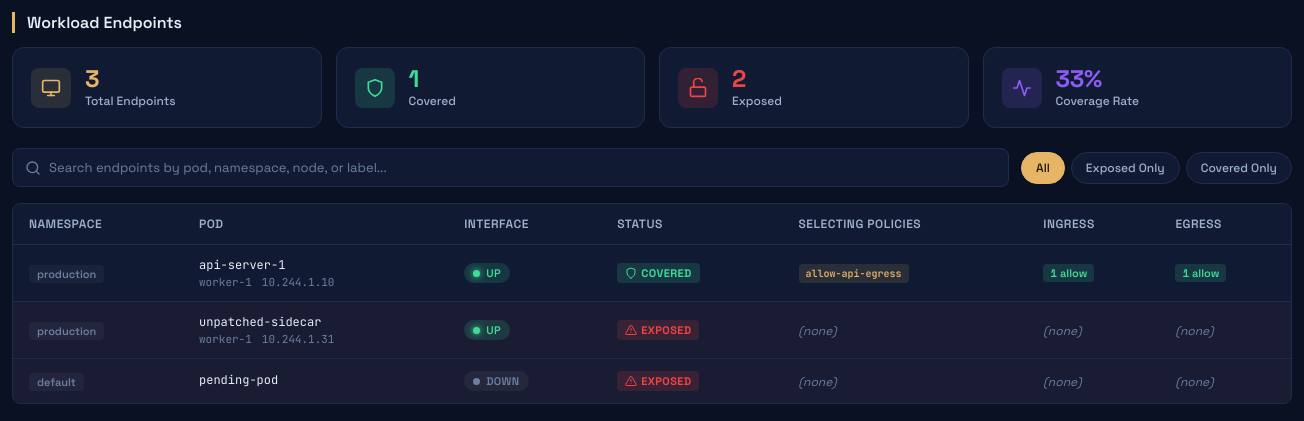
Test case: WorkloadEndpointsPanel › filters to covered pods only when chip clicked
This screenshot has width=1304, height=421.
Click the button "Covered Only".
click(1239, 168)  # box top-left (1186, 152), bottom-right (1292, 184)
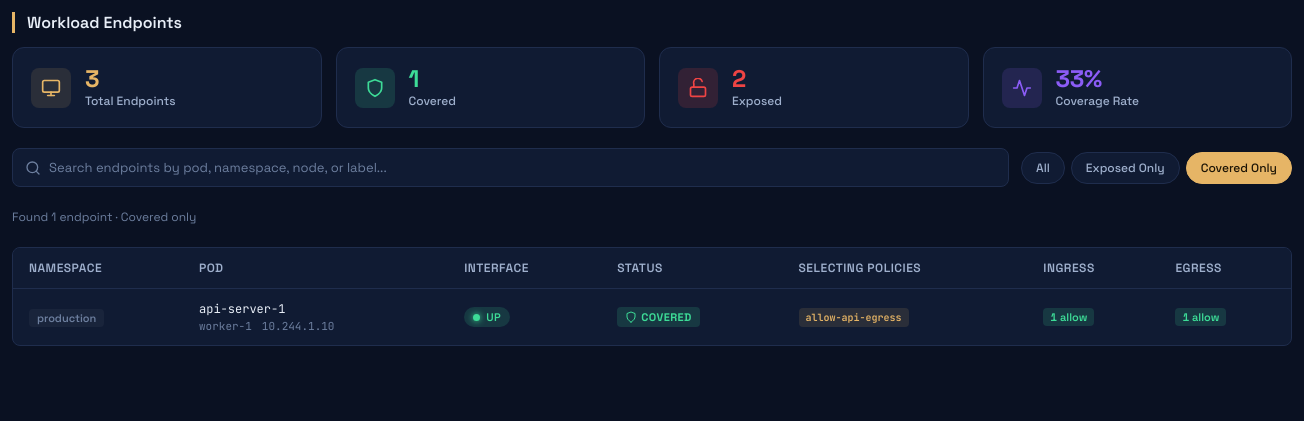
Expected: the text "api-server-1" is shown, top-left (199, 301), bottom-right (285, 317)
Result: the text "unpatched-sidecar" is gone
